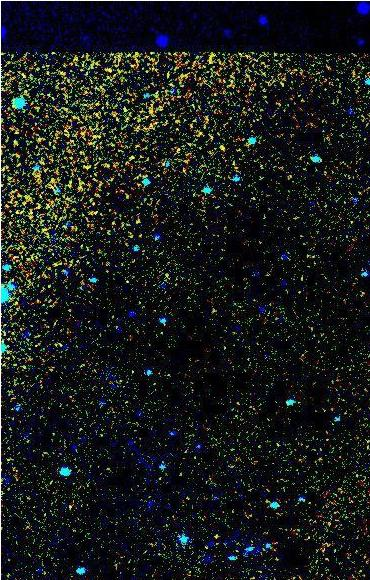star: (209, 135, 239, 165)
